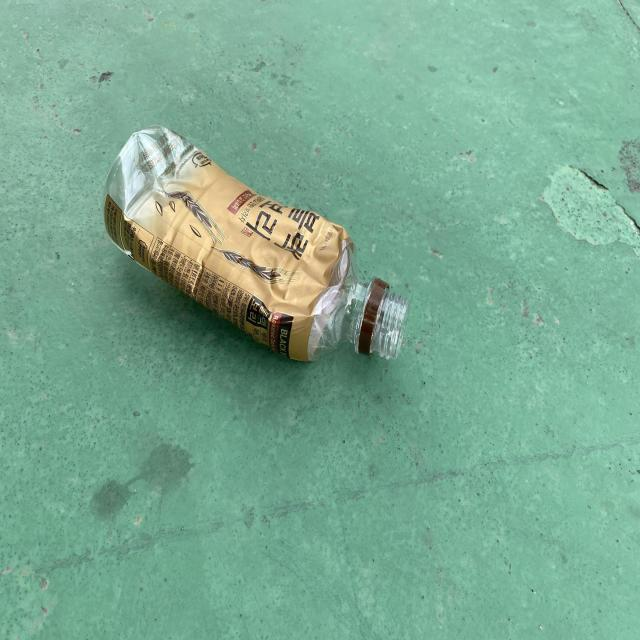plastic: (104, 125, 409, 361)
